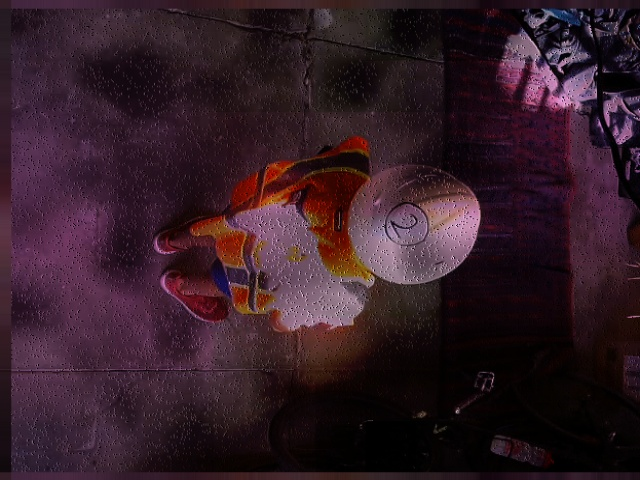two: (385, 201, 429, 246)
